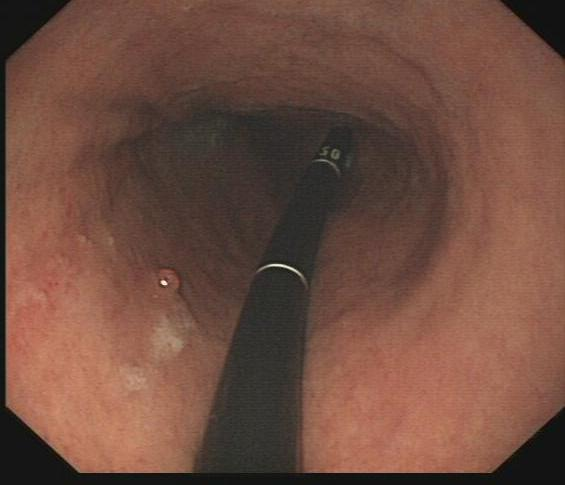Polyp: (146, 258, 198, 308)
